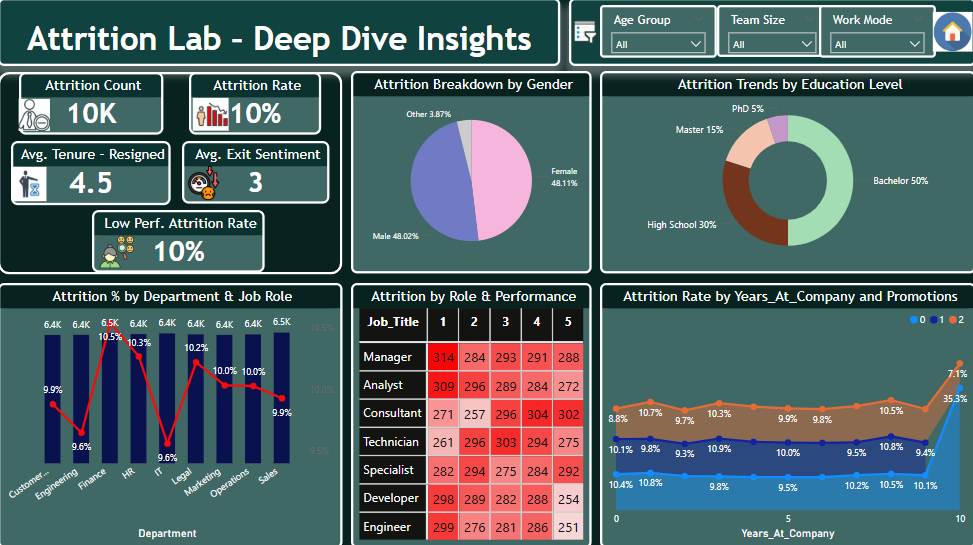

What the dashboard file says about the page in this screenshot:
{"tool":"powerbi","page":{"name":"Attrition","canvas":[1280,720],"ordinal":2},"visuals":[{"type":"textbox","box":[0,0,736.1,88.9],"z":0},{"type":"card","title":"Attrition Count","fields":{"Values":["Employee.Attrition Count"]},"box":[27.4,96.5,188.6,82.1],"z":1000},{"type":"card","title":"Attrition Rate ","fields":{"Values":["Employee.Attrition%"]},"box":[250.6,96.5,172.8,82.1],"z":2000},{"type":"card","title":"Avg. Tenure – Resigned","fields":{"Values":["Employee.Avg.Tenure-Resigned"]},"box":[17.3,187.2,208.8,83.5],"z":3000},{"type":"card","title":"Avg. Exit Sentiment","fields":{"Values":["Employee.Avg Satisfaction (Resigned)"]},"box":[240.5,187.2,193,82.1],"z":4000},{"type":"card","title":"Low Perf. Attrition Rate","fields":{"Values":["Employee.% Resigned with Low Performance (<3)"]},"box":[122.4,277.9,226.1,82.1],"z":5000},{"type":"donutChart","title":"Attrition Trends by Education Level","fields":{"Series":["Employee.Education_Level"],"Y":["Employee.Attrition Count"]},"box":[787.7,95,492.5,265],"z":6000},{"type":"textbox","title":"Slicer Pannel","box":[747.5,0,532.8,89],"z":7000},{"type":"slicer","fields":{"Values":["Employee.Age Group"]},"box":[788.1,9.2,153.2,69.4],"z":8000},{"type":"image","box":[747.5,0,40.6,87.7],"z":9000},{"type":"slicer","fields":{"Values":["Employee.Team Category"]},"box":[941.2,9.2,145.3,68.1],"z":10000},{"type":"slicer","fields":{"Values":["Employee.Remote Work Type"]},"box":[1074.8,9.2,153.2,69.4],"z":11000},{"type":"image","box":[1218.2,8.6,61.9,70.6],"z":12000},{"type":"image","box":[17.3,126.7,60.5,51.8],"z":13000},{"type":"image","box":[240.5,125.3,74.9,53.3],"z":14000},{"type":"image","box":[10.1,216,61.9,54.7],"z":15000},{"type":"image","box":[122.4,305.3,64.8,54.7],"z":16000},{"type":"image","box":[87.8,214.6,362.9,54.7],"z":17000},{"type":"lineStackedColumnComboChart","title":"Attrition % by Department & Job Role","fields":{"Y":["Employee.Average Monthly Salary (Resigned Employees)"],"Y2":["Employee.Attrition Rate"],"Category":["Employee.Department","Employee.Job_Title"]},"box":[0,373,450.7,347],"z":18000},{"type":"stackedAreaChart","fields":{"Category":["Employee.Years_At_Company"],"Y":["Employee.Attrition Rate"],"Series":["Employee.Promotions"]},"box":[787.7,373,492.5,347],"z":19000},{"type":"pivotTable","title":"Attrition by Role & Performance","fields":{"Rows":["Employee.Job_Title"],"Values":["Employee.Attrition Count"],"Columns":["Employee.Performance_Score"]},"box":[462.2,373,315.4,347],"z":20000},{"type":"pieChart","title":"Attrition Breakdown by Gender","fields":{"Series":["Employee.Gender"],"Y":["Employee.Attrition Count"]},"box":[462.2,95,315.4,265],"z":21000},{"type":"shape","box":[0,96.5,450.7,265],"z":22000}]}

Visuals, with their boxes in screenshot pixels (x1, y1, x2, y2), scaled from the page's 1280x720 canvas onto the 973x545 screenshot:
textbox: BBox(0, 0, 560, 67)
"Attrition Count" card: BBox(21, 73, 164, 135)
"Attrition Rate " card: BBox(190, 73, 322, 135)
"Avg. Tenure – Resigned" card: BBox(13, 142, 172, 205)
"Avg. Exit Sentiment" card: BBox(183, 142, 330, 204)
"Low Perf. Attrition Rate" card: BBox(93, 210, 265, 272)
"Attrition Trends by Education Level" donutChart: BBox(599, 72, 972, 272)
"Slicer Pannel" textbox: BBox(568, 0, 972, 67)
slicer - Employee.Age Group: BBox(599, 7, 716, 59)
image: BBox(568, 0, 599, 66)
slicer - Employee.Team Category: BBox(715, 7, 826, 59)
slicer - Employee.Remote Work Type: BBox(817, 7, 933, 59)
image: BBox(926, 7, 972, 60)
image: BBox(13, 96, 59, 135)
image: BBox(183, 95, 240, 135)
image: BBox(8, 164, 55, 205)
image: BBox(93, 231, 142, 272)
image: BBox(67, 162, 343, 204)
"Attrition % by Department & Job Role" lineStackedColumnComboChart: BBox(0, 282, 343, 544)
stackedAreaChart - Employee.Years_At_Company x Employee.Attrition Rate: BBox(599, 282, 972, 544)
"Attrition by Role & Performance" pivotTable: BBox(351, 282, 591, 544)
"Attrition Breakdown by Gender" pieChart: BBox(351, 72, 591, 272)
shape: BBox(0, 73, 343, 274)
